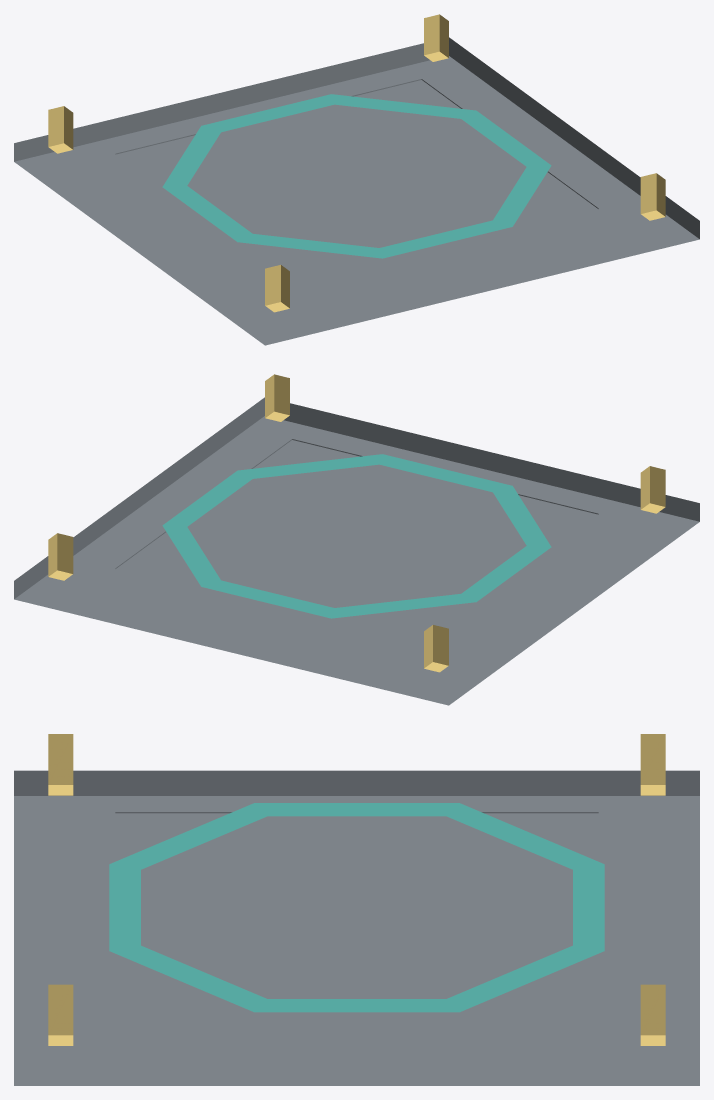
Rendered from patrol-pad-beacon.glb.
3 views of the same model, one above another, from view 1: azimuth 30°, elevation 25°; view 2: azimuth 150°, elevation 25°; view 3: azimuth 270°, elevation 25° (orthographic). The views are drawn at different scales.
Visible parts, largest first — view 1: deck, ring, beacons; view 2: deck, ring, beacons; view 3: deck, ring, beacons.
Part boxes in pixels (x1,y1,x2,y2): deck: [14, 37, 699, 345]; ring: [162, 94, 551, 258]; beacons: [48, 14, 665, 312]; deck: [14, 397, 699, 705]; ring: [162, 454, 551, 618]; beacons: [48, 374, 665, 672]; deck: [14, 770, 699, 1085]; ring: [109, 803, 604, 1012]; beacons: [48, 734, 665, 1045].
Size of the model in its own units: 4.4 by 0.54 by 4.4.
